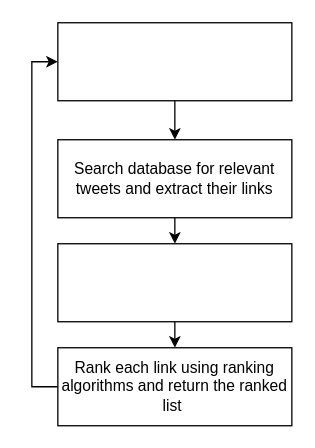
The diagram is 315 pixels wide and 448 high, and some of its shapes have lost their labels. Each missing label, with the box of its shape:
Pass links to web crawler to extract the content of the pages: (57, 242, 292, 322)
Send search query to backend: (57, 21, 292, 101)
